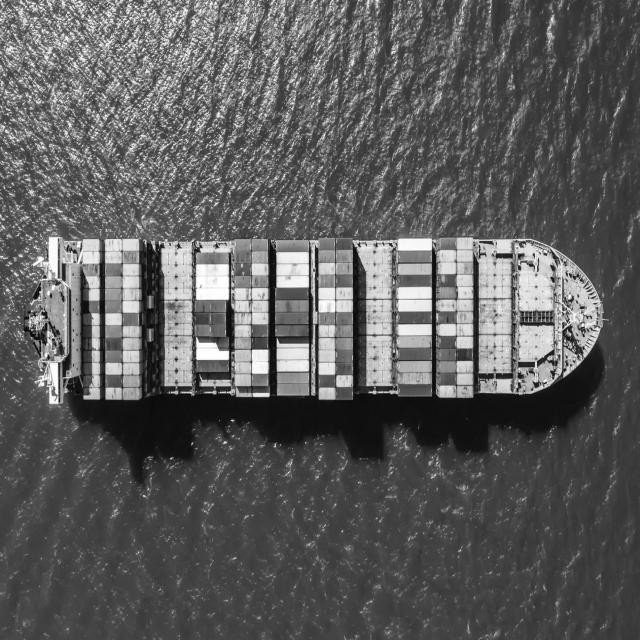Container Ship: (19, 231, 606, 408)
